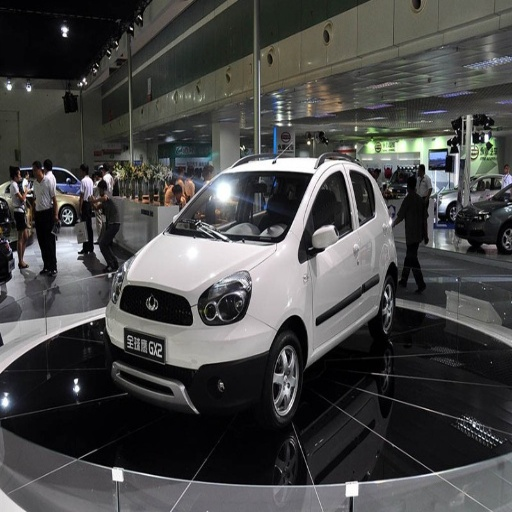front_bumper: (107, 282, 276, 412)
front_glass: (167, 173, 310, 243)
front_left_door: (305, 165, 359, 348)
